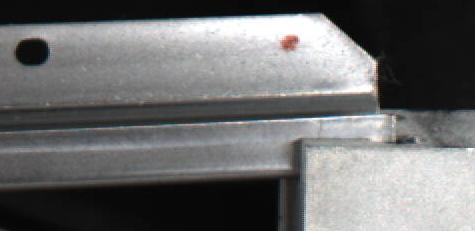cut: (245, 10, 407, 175)
holes: (13, 36, 51, 67)
